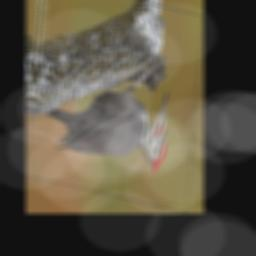Woodpecker: (39, 46, 172, 177)
